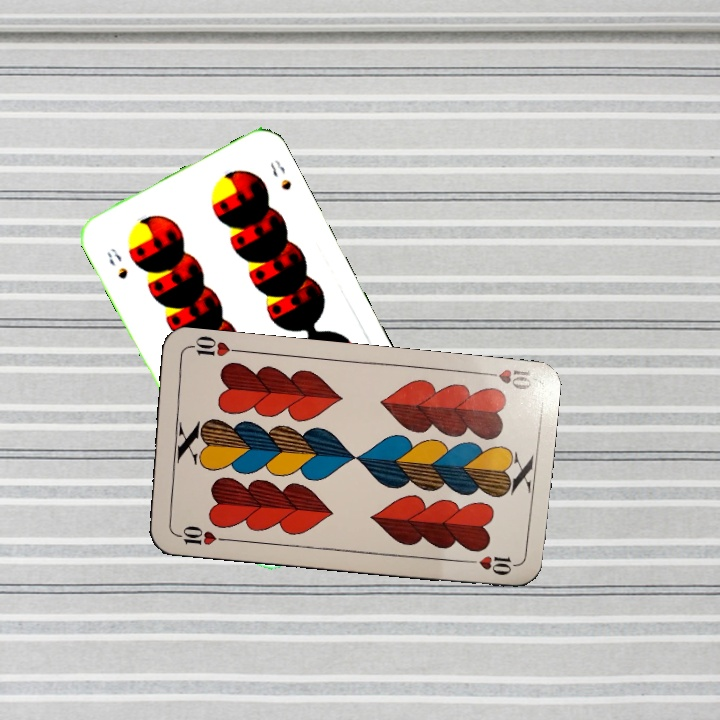H10: (476, 365, 534, 394), (169, 521, 228, 548)
S8: (102, 244, 131, 282)
